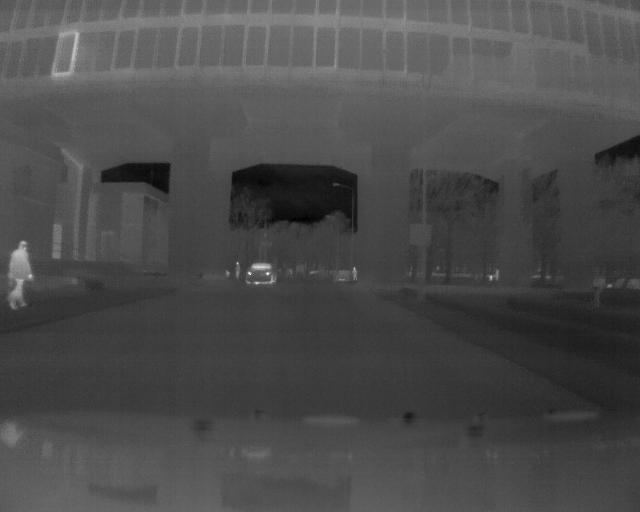car: (245, 260, 277, 285)
person: (5, 237, 32, 309)
